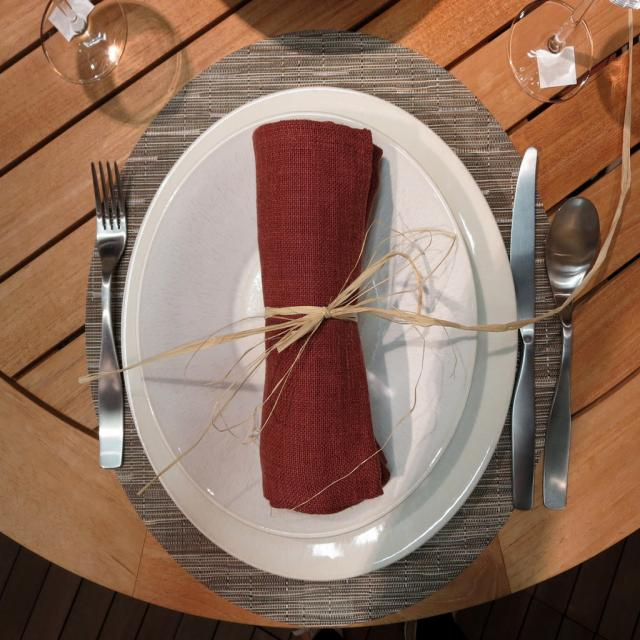non-organic waste: (126, 96, 526, 586)
